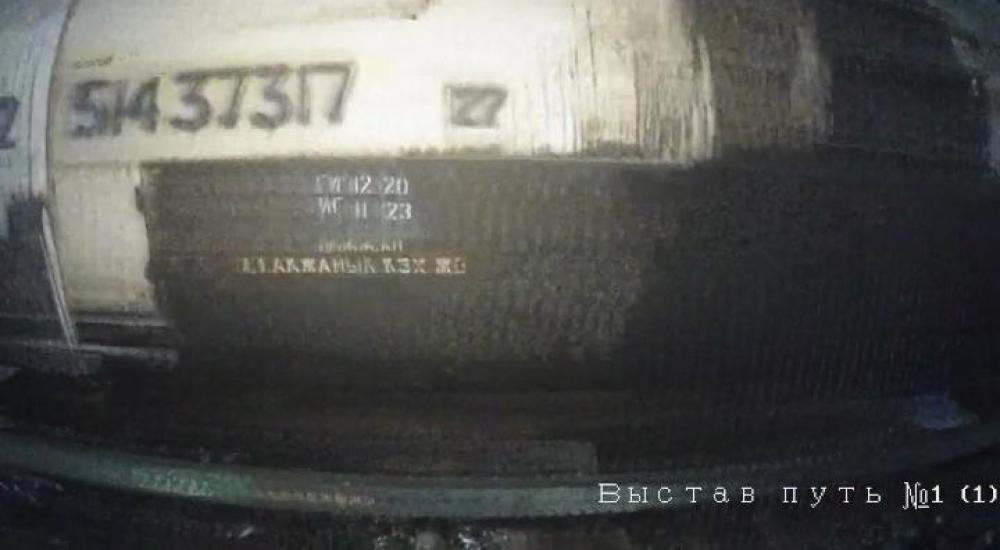Wagon-number: (54, 56, 364, 144)
